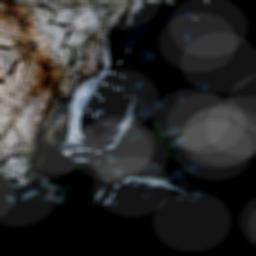Woodpecker: (5, 5, 189, 179)
